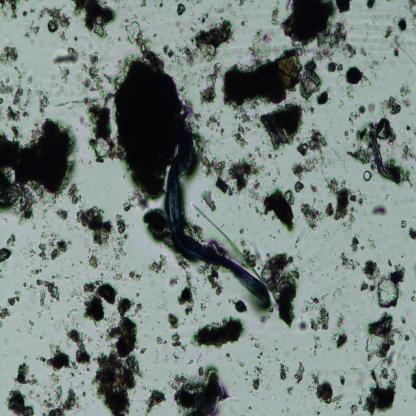Background material: (109, 46, 192, 204), (0, 114, 73, 221), (222, 40, 303, 124), (91, 296, 146, 412), (282, 0, 348, 60), (163, 362, 230, 416), (256, 254, 300, 327), (256, 98, 307, 152), (82, 97, 119, 164), (360, 259, 407, 309), (359, 360, 399, 416), (292, 123, 328, 180), (62, 304, 92, 372), (37, 370, 81, 416), (72, 0, 116, 42), (193, 20, 235, 64), (0, 64, 31, 123), (171, 251, 198, 318), (18, 232, 72, 263), (77, 203, 114, 248), (79, 282, 118, 324), (76, 49, 110, 96), (143, 203, 177, 250), (231, 150, 266, 195), (366, 309, 396, 361), (262, 188, 297, 232), (340, 231, 376, 273), (81, 248, 124, 283), (192, 318, 244, 346), (250, 333, 275, 391), (199, 156, 233, 196), (378, 79, 413, 117), (39, 5, 72, 42), (184, 104, 208, 152), (53, 46, 83, 84), (236, 227, 260, 272), (333, 176, 355, 224), (197, 62, 222, 103), (303, 297, 332, 331), (309, 370, 334, 408), (300, 58, 320, 101), (344, 139, 374, 167), (35, 276, 62, 307), (250, 28, 272, 66), (38, 346, 72, 370), (118, 22, 148, 49), (200, 261, 221, 299), (345, 68, 369, 100), (300, 201, 324, 232), (6, 390, 34, 416), (115, 212, 130, 260), (0, 0, 24, 28), (246, 178, 265, 212), (10, 362, 38, 385), (142, 392, 167, 416), (384, 26, 402, 56), (52, 92, 81, 110), (208, 3, 238, 20), (178, 68, 198, 93), (231, 124, 250, 148), (163, 43, 182, 65), (168, 328, 186, 351), (121, 188, 138, 212), (183, 43, 198, 70), (393, 166, 411, 188), (0, 45, 17, 68), (348, 104, 366, 125), (149, 254, 166, 276), (68, 181, 83, 205), (398, 140, 416, 160), (22, 20, 40, 39), (342, 207, 356, 231), (314, 86, 331, 105), (204, 189, 218, 212), (325, 174, 339, 196), (166, 309, 180, 330), (355, 123, 372, 140), (369, 204, 388, 218), (37, 89, 47, 115), (410, 352, 416, 393), (295, 358, 304, 385), (0, 247, 14, 264), (174, 1, 188, 18), (7, 288, 20, 306), (278, 361, 289, 382), (394, 15, 406, 33), (332, 333, 346, 348), (358, 187, 369, 206), (335, 312, 348, 328), (207, 116, 220, 132), (335, 0, 352, 12), (406, 0, 416, 20), (0, 305, 11, 323), (196, 10, 210, 24), (324, 201, 335, 218), (330, 394, 343, 408), (57, 206, 67, 223), (336, 73, 346, 90), (236, 300, 249, 313), (155, 332, 167, 346), (271, 6, 280, 24), (368, 59, 380, 72), (131, 269, 144, 281), (28, 265, 41, 277), (344, 46, 355, 60), (167, 273, 179, 285), (300, 320, 311, 332), (308, 257, 314, 279), (6, 234, 16, 247), (189, 0, 202, 10), (408, 226, 416, 242), (314, 335, 320, 356), (254, 144, 263, 158), (327, 62, 338, 73), (358, 44, 368, 56), (70, 358, 78, 373), (295, 179, 304, 192), (333, 287, 343, 298), (334, 149, 344, 160), (323, 157, 333, 168), (295, 232, 301, 250), (271, 176, 280, 187), (218, 124, 226, 136), (396, 328, 404, 340), (306, 105, 316, 114), (368, 162, 377, 172), (286, 385, 294, 396), (364, 171, 372, 182), (296, 250, 304, 261), (69, 292, 81, 299), (340, 372, 346, 386), (365, 0, 375, 8), (135, 0, 146, 7), (411, 288, 416, 303), (246, 403, 253, 413), (241, 14, 248, 24), (351, 406, 358, 416), (399, 314, 406, 324), (338, 98, 344, 109), (404, 333, 410, 344), (187, 357, 195, 365), (368, 103, 376, 111), (172, 352, 179, 361), (400, 219, 406, 229), (337, 64, 344, 72), (27, 319, 34, 327), (238, 0, 245, 8), (309, 187, 318, 193), (158, 0, 165, 7), (238, 361, 245, 368), (386, 259, 393, 266), (22, 280, 28, 288), (22, 10, 28, 18), (316, 408, 322, 416), (178, 25, 183, 34), (344, 129, 349, 138), (28, 8, 36, 13), (413, 262, 416, 275), (140, 348, 146, 354), (372, 11, 377, 18), (406, 124, 411, 131), (276, 166, 280, 174), (124, 18, 129, 24), (286, 408, 292, 413), (224, 353, 230, 358), (293, 346, 299, 351), (245, 370, 250, 375), (386, 195, 390, 201), (413, 128, 416, 136), (274, 347, 278, 352), (313, 197, 316, 203), (229, 358, 233, 362), (281, 408, 284, 413), (250, 0, 254, 3), (244, 379, 248, 382), (270, 153, 272, 158), (175, 0, 178, 3), (250, 391, 252, 394)
Cellulose filter fibre: (369, 129, 397, 181)
Cotton: (160, 115, 273, 311)
